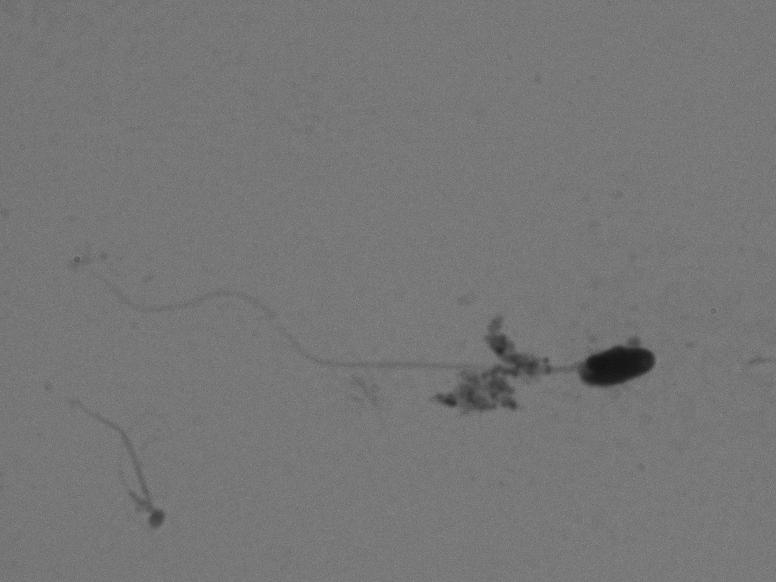Abnormal: (93, 235, 679, 426)
